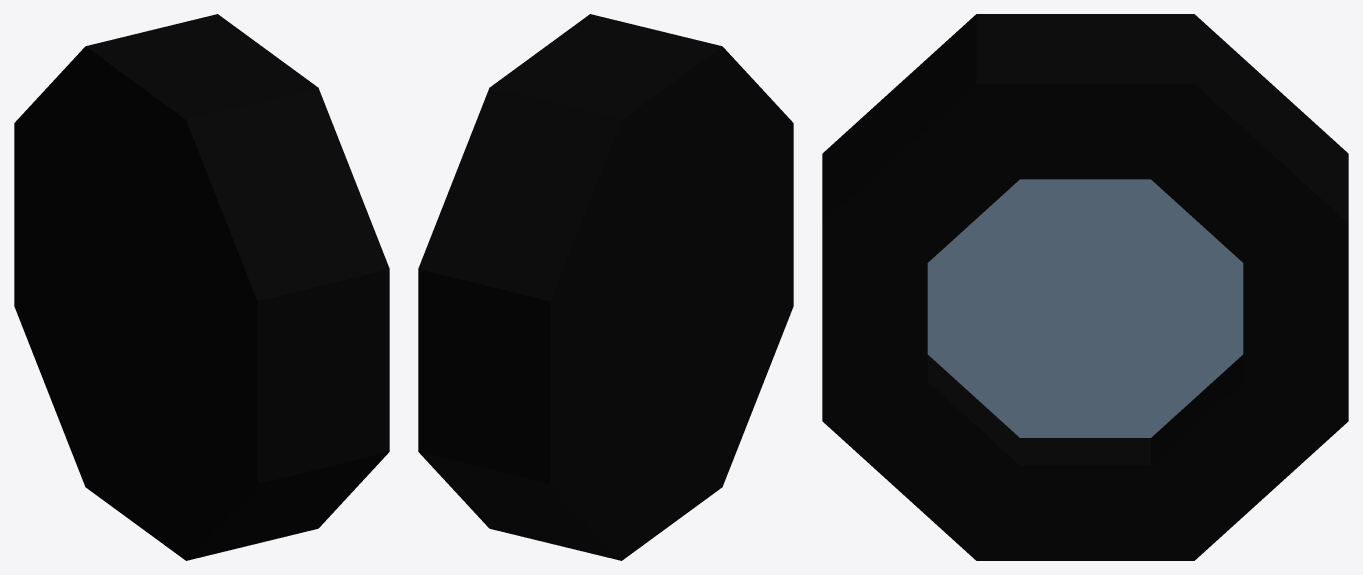
Rendered from Wheel.fbx.
The picture shows the model from 3 angles, left to right: view 1: azimuth 30°, elevation 25°; view 2: azimuth 150°, elevation 25°; view 3: azimuth 270°, elevation 25°; orthographic projection. The views are drawn at different scales.
Visible parts, largest first — view 1: Wheel; view 2: Wheel; view 3: Wheel.
Part boxes in pixels (left/top/right/bottom): Wheel: left=14, top=14, right=389, bottom=560; Wheel: left=418, top=14, right=793, bottom=560; Wheel: left=822, top=14, right=1348, bottom=560.
Size of the model in its own units: 0.1864 by 0.5935 by 0.5935.
